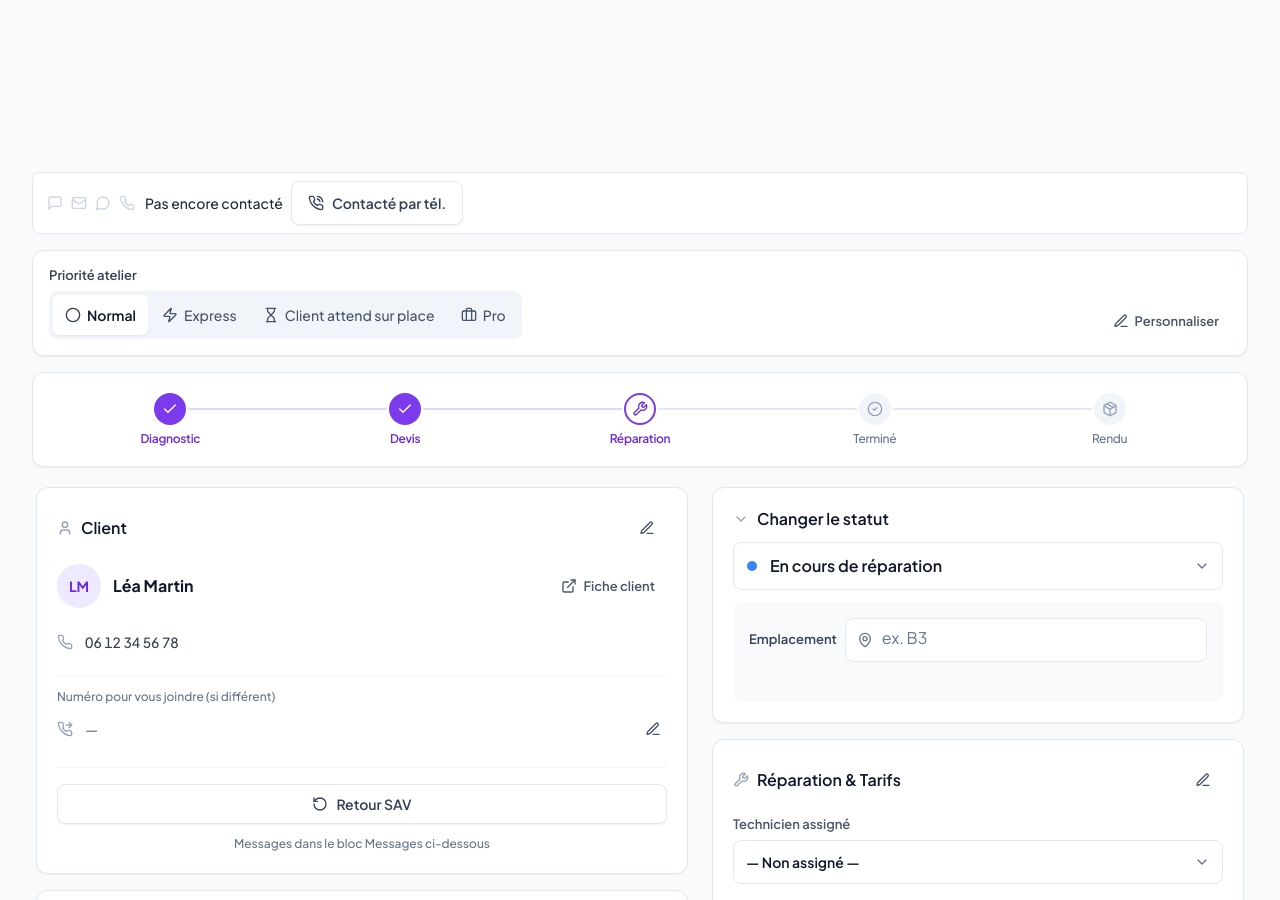
Test case: Fiche : « Réparation terminée » → carte « Prévenir » › déjà prévenu : rappel affiché, confirmation avant tout renvoi ; « Replier » ferme
The width and height of the screenshot is (1280, 900).
Select "Réparation terminée" in the dropdown labelled "Changer le statut": (978, 566) [733, 542, 1223, 590]
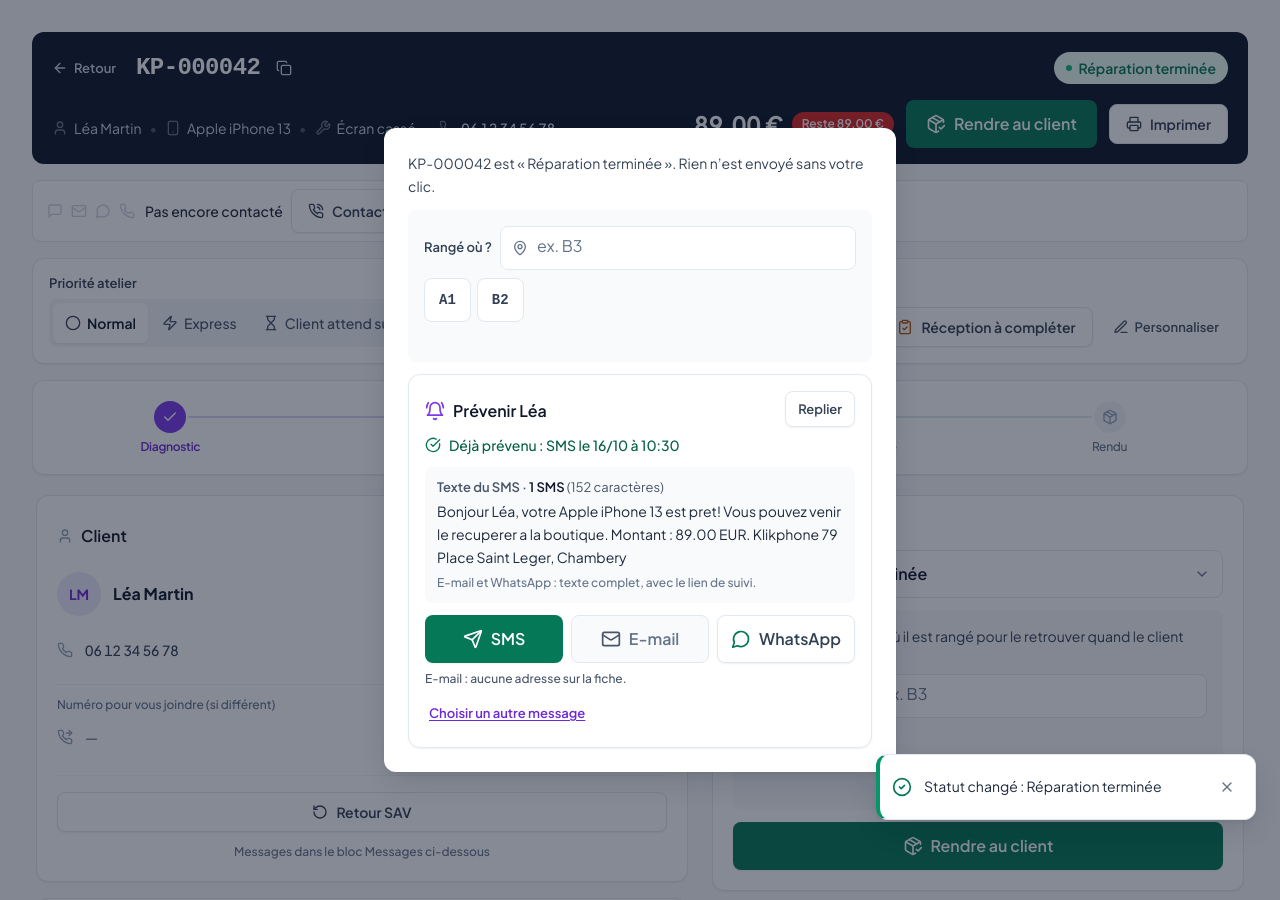
expect the text "Déjà prévenu : SMS le 16/10 à 10:30" is shown: met, box [449, 434, 680, 454]
Click the button "SMS": (494, 639) [425, 615, 563, 663]
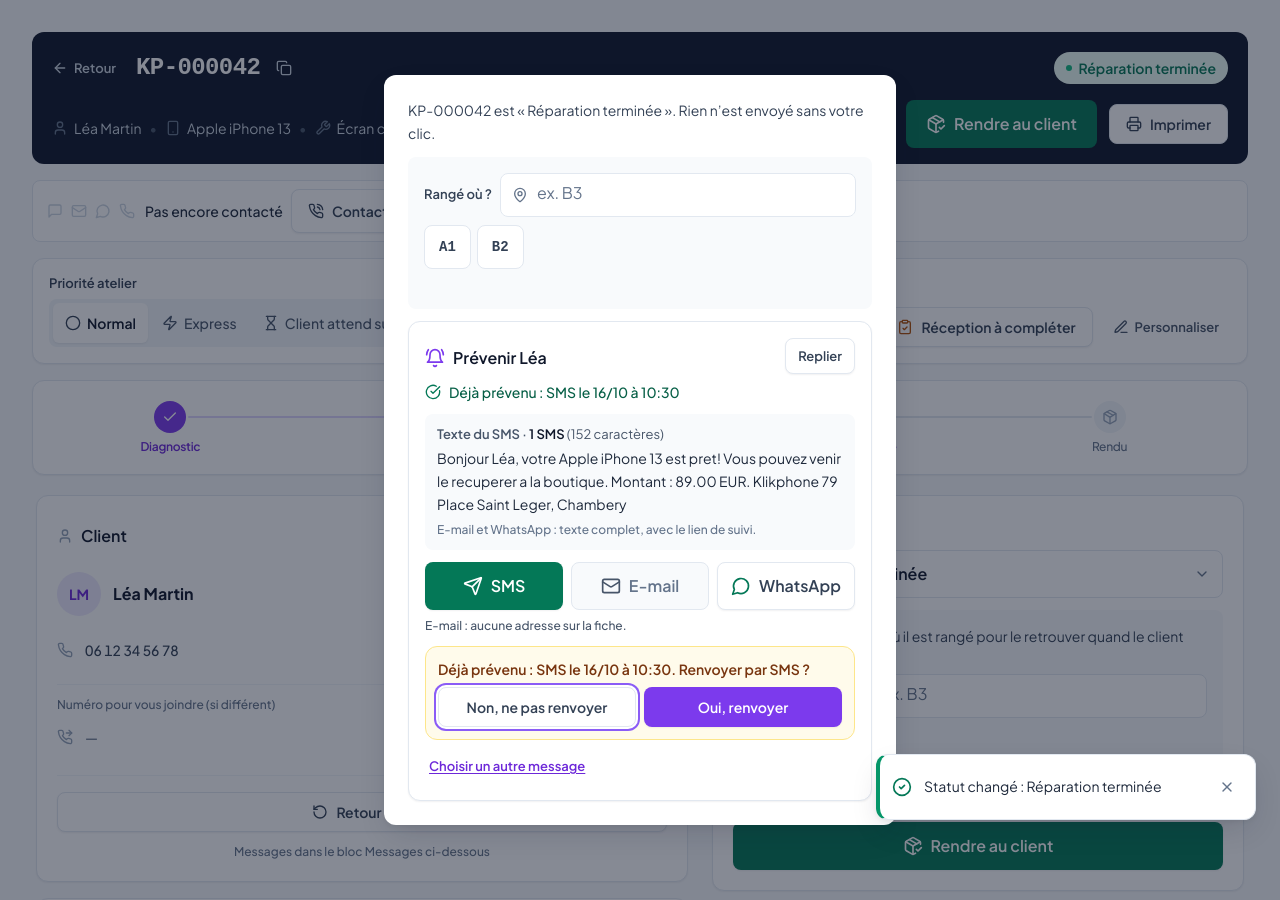
expect the text "Déjà prévenu : SMS le 16/10 à 10:30. Renvoyer par SMS ?" is shown: met, box [438, 659, 842, 679]
Click the button "Non, ne pas renvoyer": (537, 707) [438, 687, 636, 727]
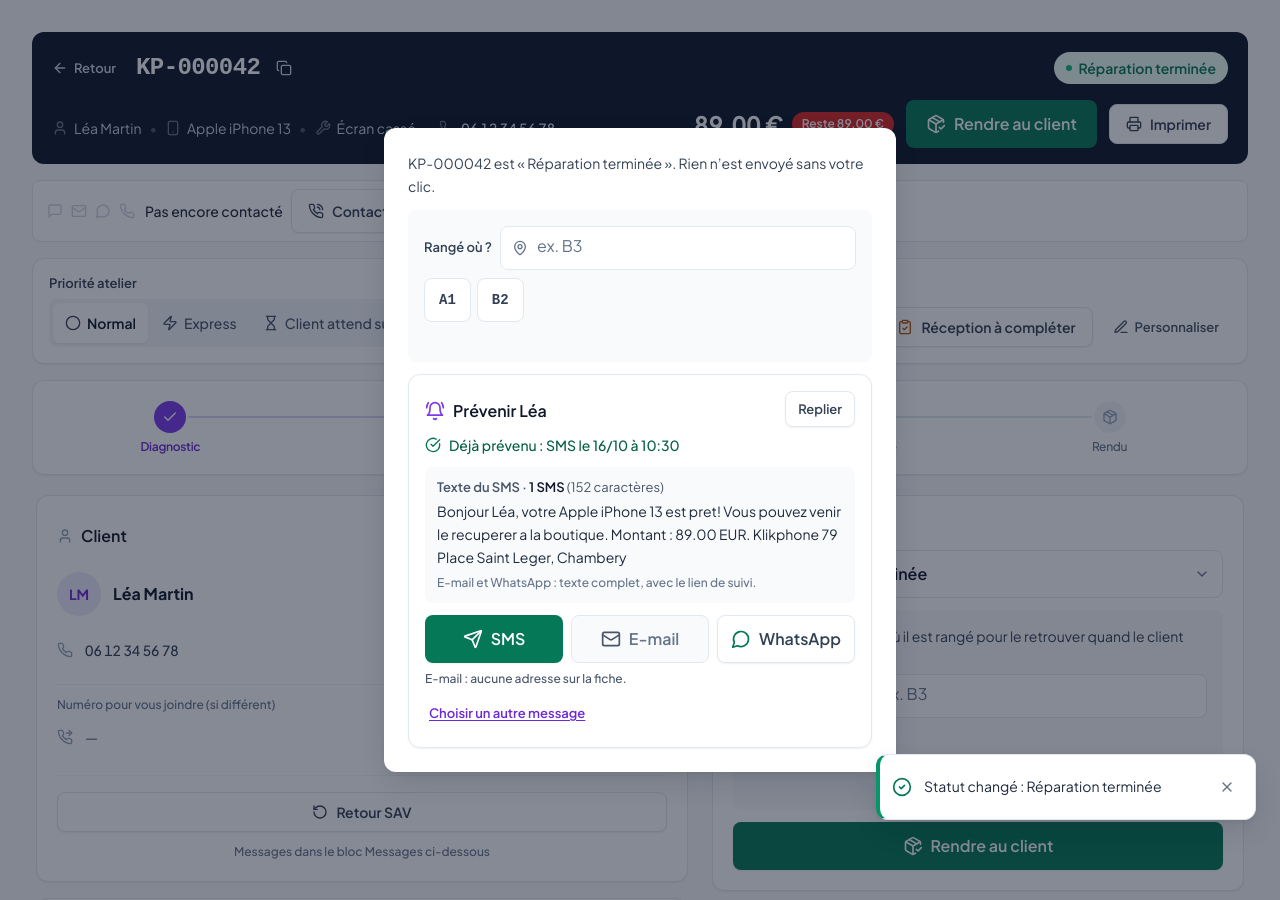
expect the text "Renvoyer par SMS ?" is gone: met
Click the button "Replier": (820, 408) [785, 390, 855, 426]
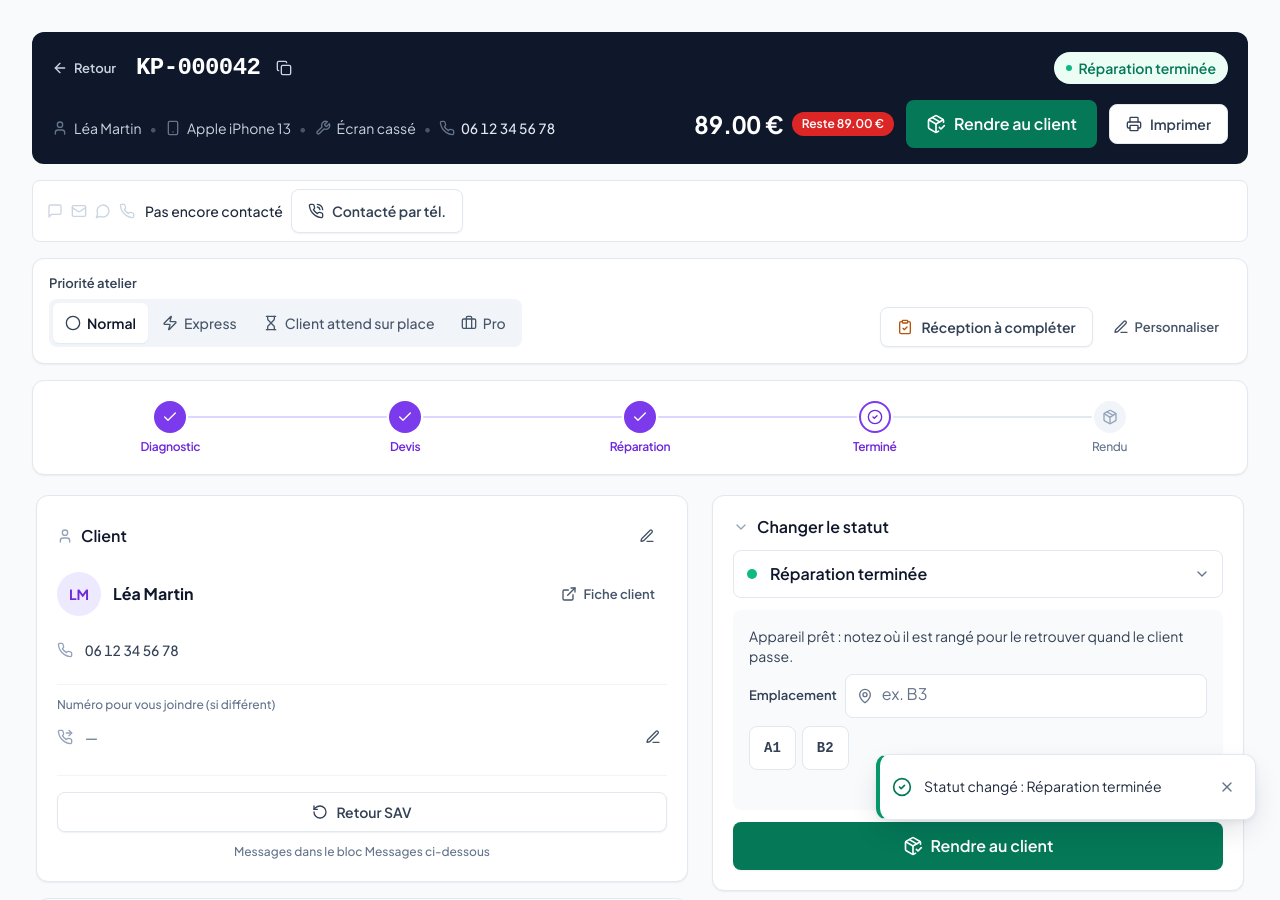
expect the dialog is gone: met
